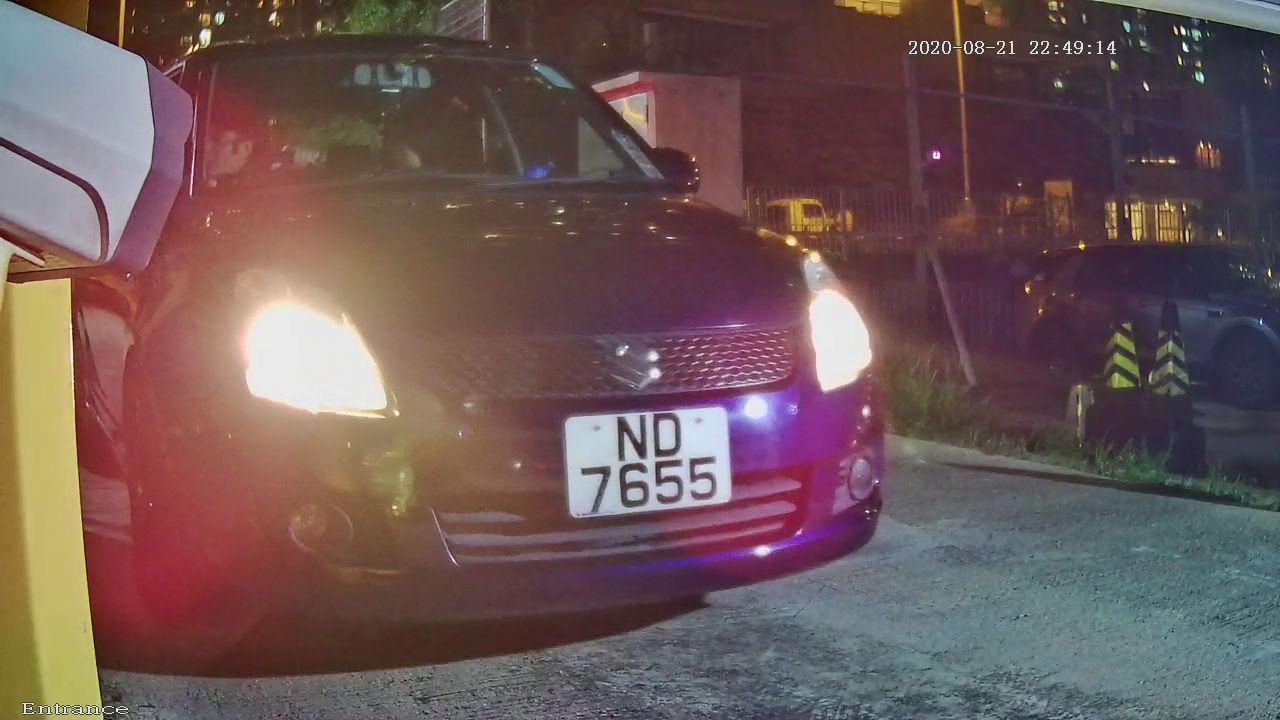Car: (1, 10, 1001, 685)
License Plate: (543, 396, 749, 531)
